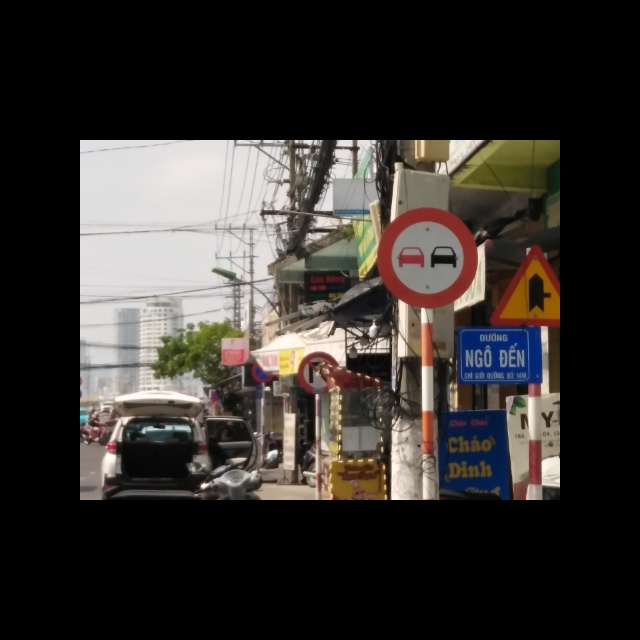Cấm vượt: (375, 207, 478, 310)
Giao nhau với đường không ưu tiên: (490, 243, 561, 328)
